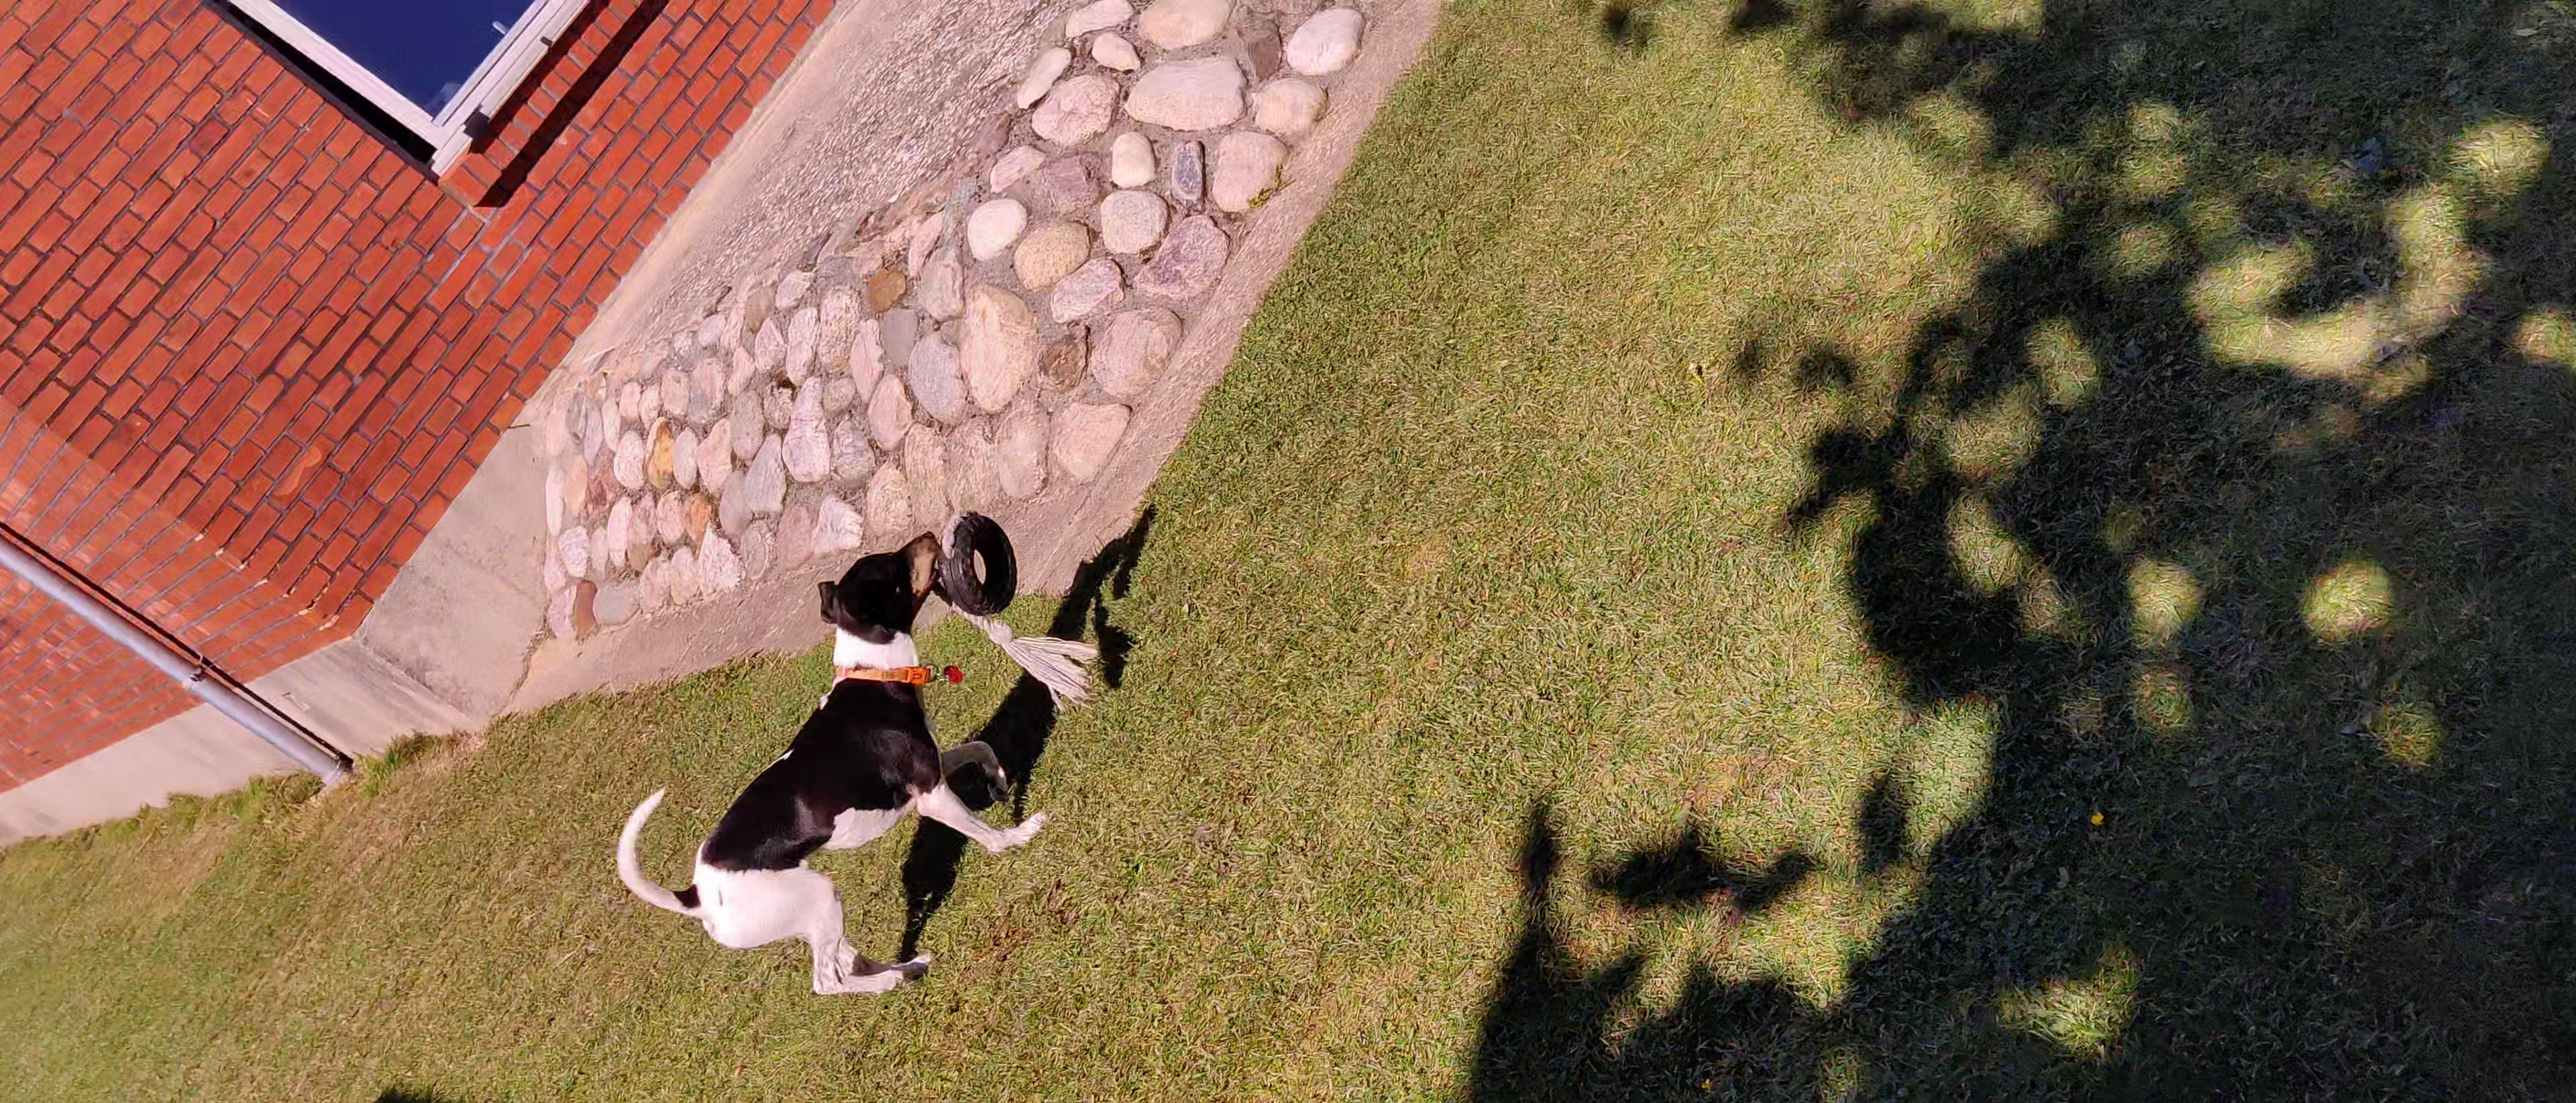Dog: (606, 526, 1063, 1001)
